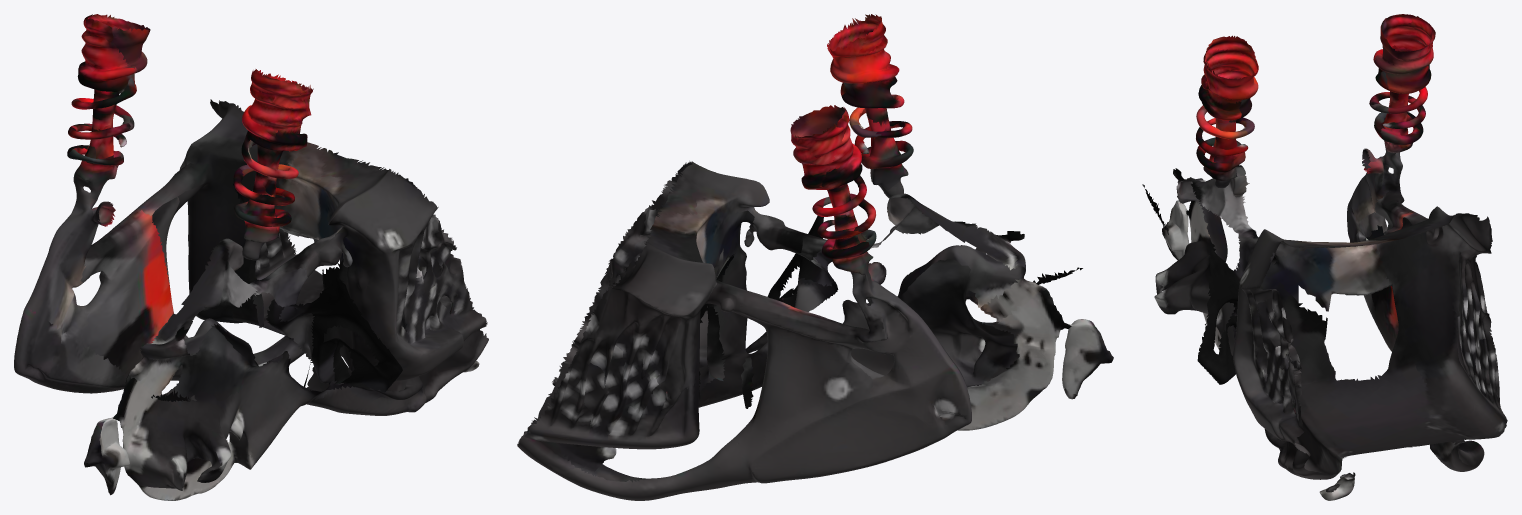
Rendered from blt150_11.obj.
The picture shows the model from 3 angles, left to right: view 1: azimuth 30°, elevation 25°; view 2: azimuth 150°, elevation 25°; view 3: azimuth 270°, elevation 25°; orthographic projection. The views are drawn at different scales.
Parts seen in each view (by area): view 1: blt150_11; view 2: blt150_11; view 3: blt150_11.
Boxes of the visible parts, x1=… form: blt150_11: x1=14, y1=14, x2=488, y2=500; blt150_11: x1=517, y1=14, x2=1113, y2=500; blt150_11: x1=1142, y1=14, x2=1507, y2=500.
Bounding box in the file's own units: 3.37 × 2.84 × 2.53.
